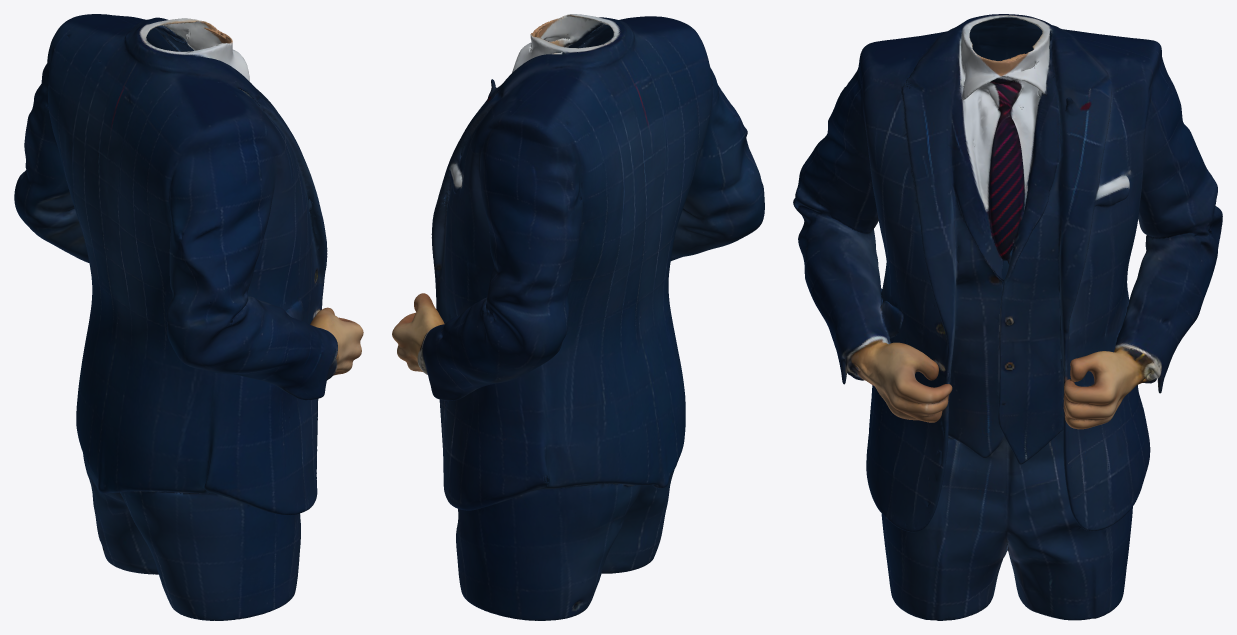
Rendered from tripo_pbr_model_2c359a53-1397-_00feb203_opt.glb.
The picture shows the model from 3 angles, left to right: view 1: azimuth 30°, elevation 25°; view 2: azimuth 150°, elevation 25°; view 3: azimuth 270°, elevation 25°; orthographic projection.
Visible parts, largest first — view 1: tripo_node_2c359a53-1397-4040-8115-07bf5b8c3cec; view 2: tripo_node_2c359a53-1397-4040-8115-07bf5b8c3cec; view 3: tripo_node_2c359a53-1397-4040-8115-07bf5b8c3cec.
Part boxes in pixels (box(x1,y1,x2,y2)): tripo_node_2c359a53-1397-4040-8115-07bf5b8c3cec: box(14, 14, 363, 620); tripo_node_2c359a53-1397-4040-8115-07bf5b8c3cec: box(392, 14, 764, 620); tripo_node_2c359a53-1397-4040-8115-07bf5b8c3cec: box(793, 14, 1222, 620).
Size of the model in its own units: 0.4483 by 0.9999 by 0.7062.
1 material, 1 textured.
